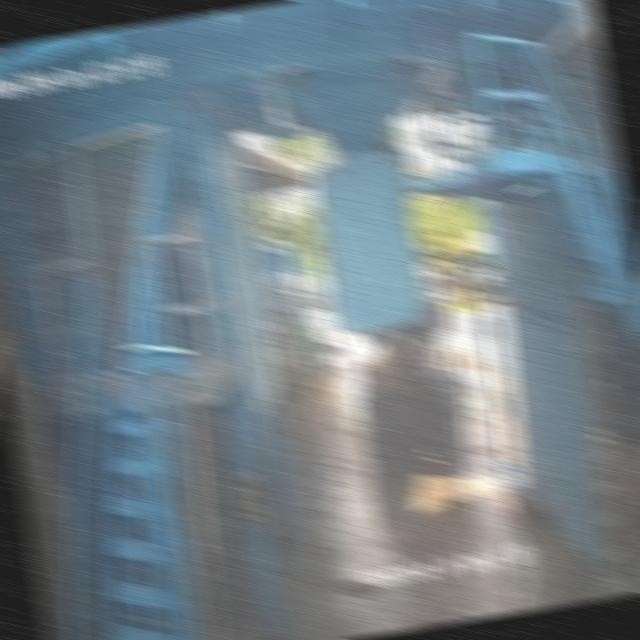cement_mixer_truck: (355, 250, 463, 476)
